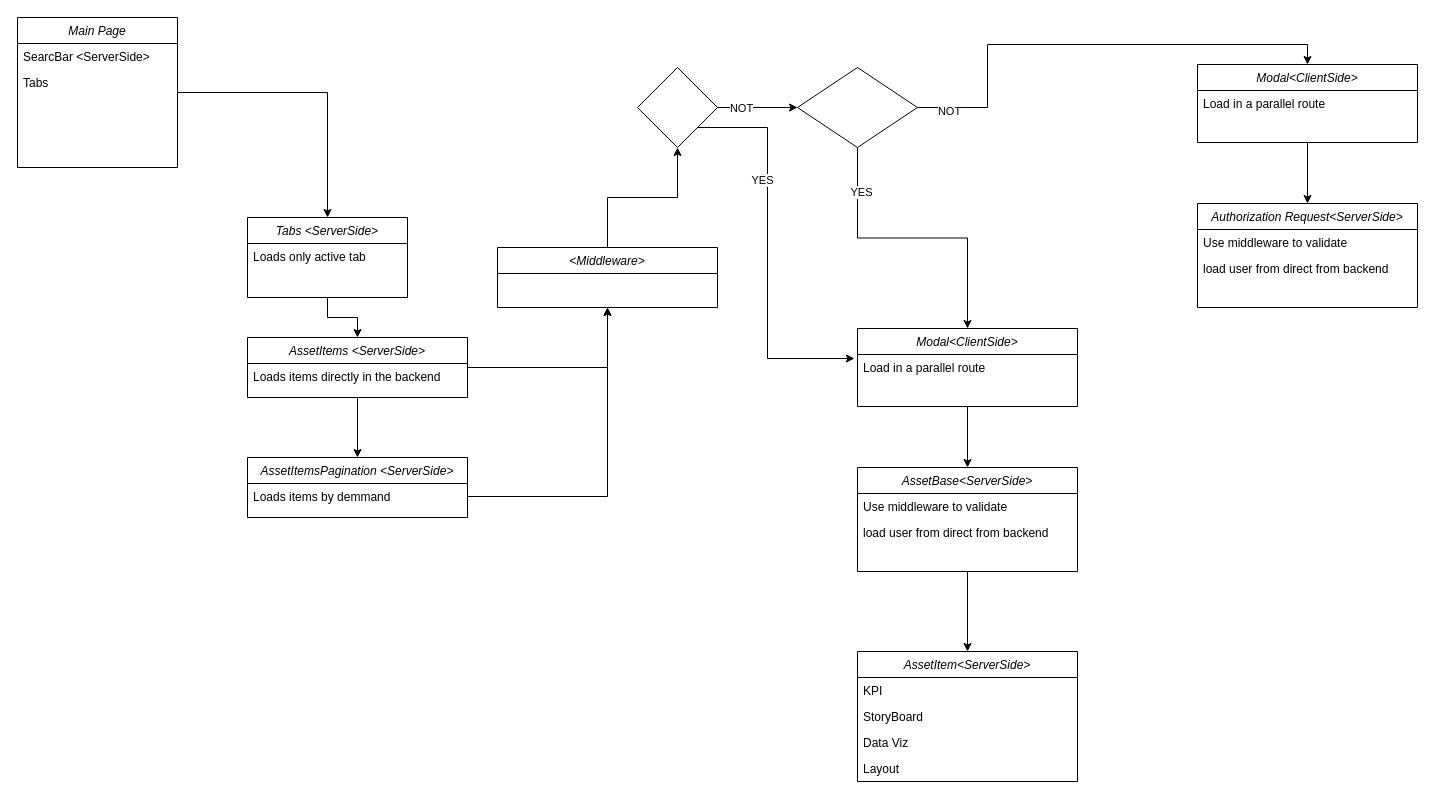
Image size: 1435x802. Some labels were removed from this diagram. Here are the shapes that lost their labels. From the top down, the centre of each, then its label:
At point 677,107: "Has Access".
At point 857,107: "Is StoryBorard".
At point 607,277: "Validate if user has access".
